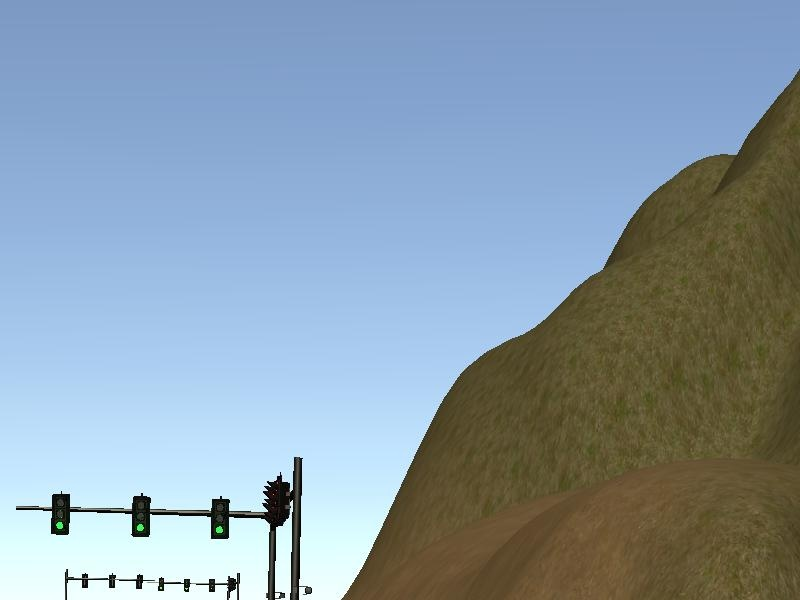traffic_light_green: (42, 492, 256, 541)
